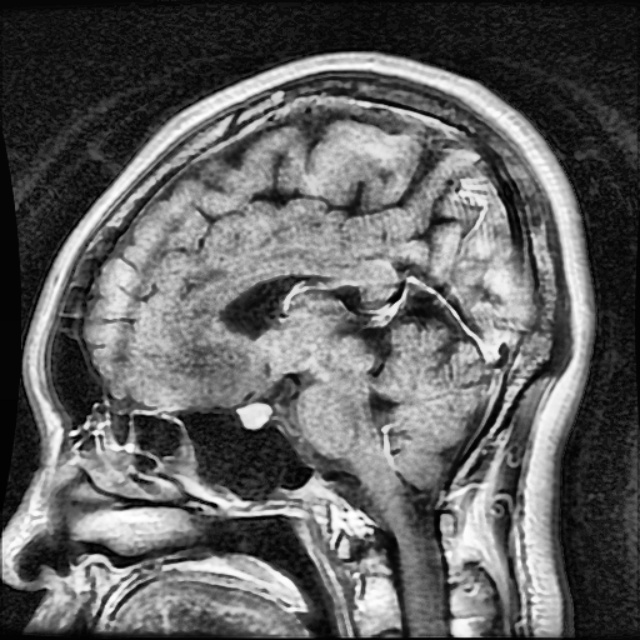Pituitary: (237, 403, 272, 429)
